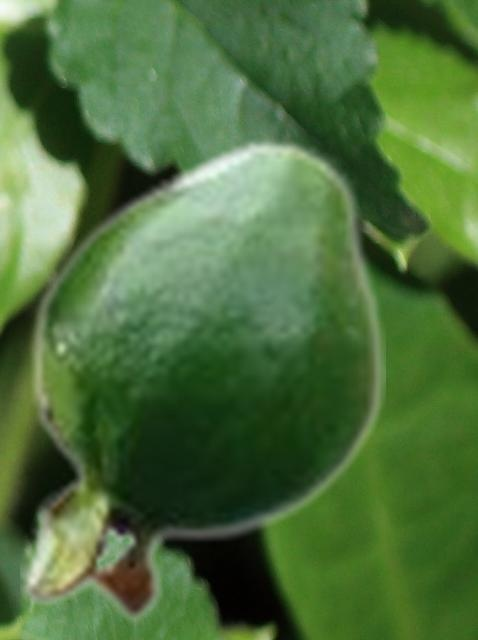guava: (20, 136, 384, 626)
